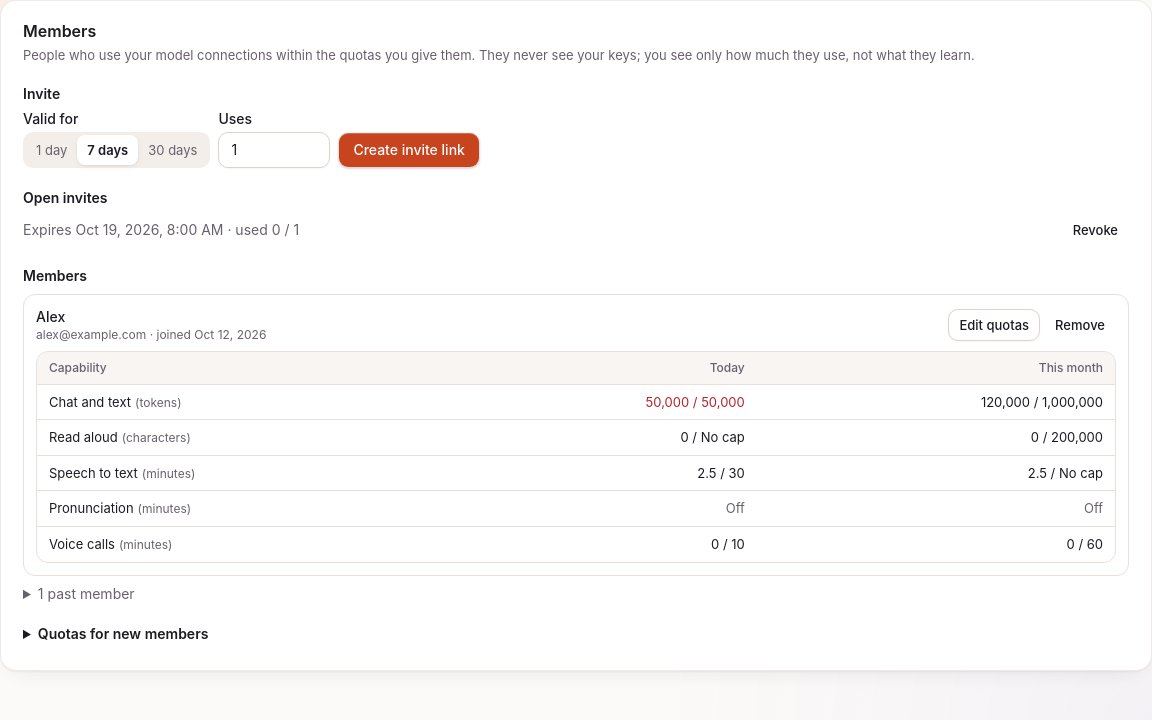
Scenario: MembersSection › won't create an invite with a bad number of uses
Replace the text in the number field labelled "Uses" with "0" at (274, 150), box [218, 132, 330, 168]
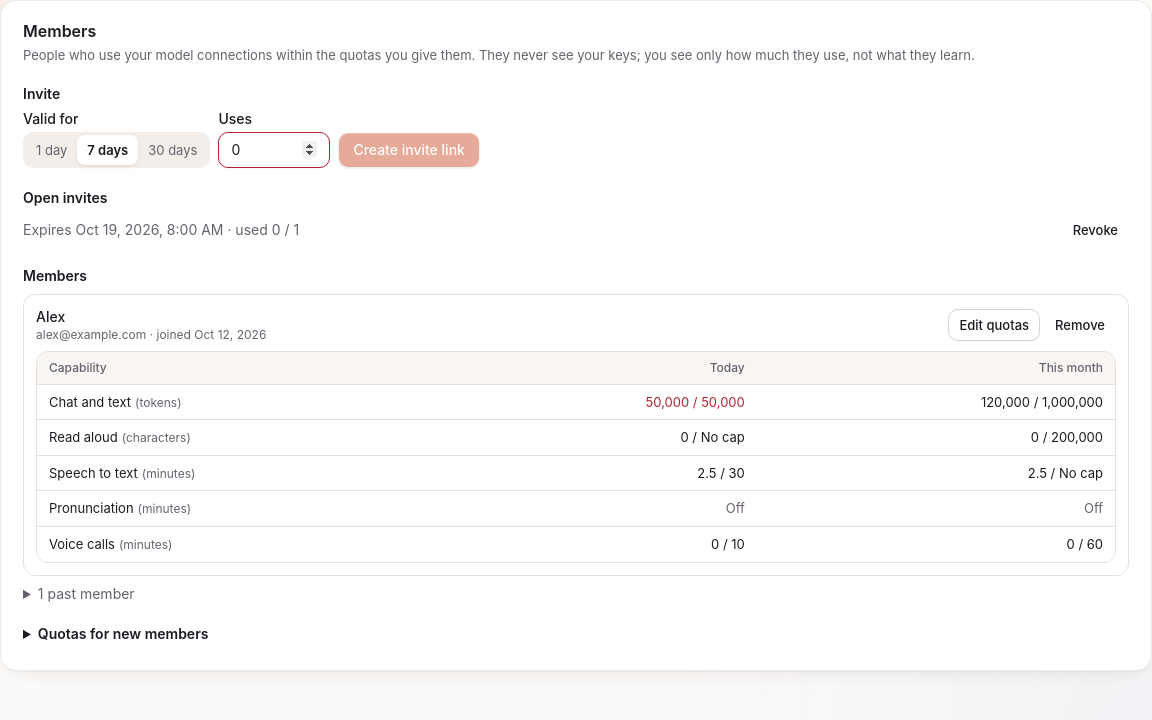
Check: the button "Create invite link" is disabled, box [338, 132, 480, 168]
